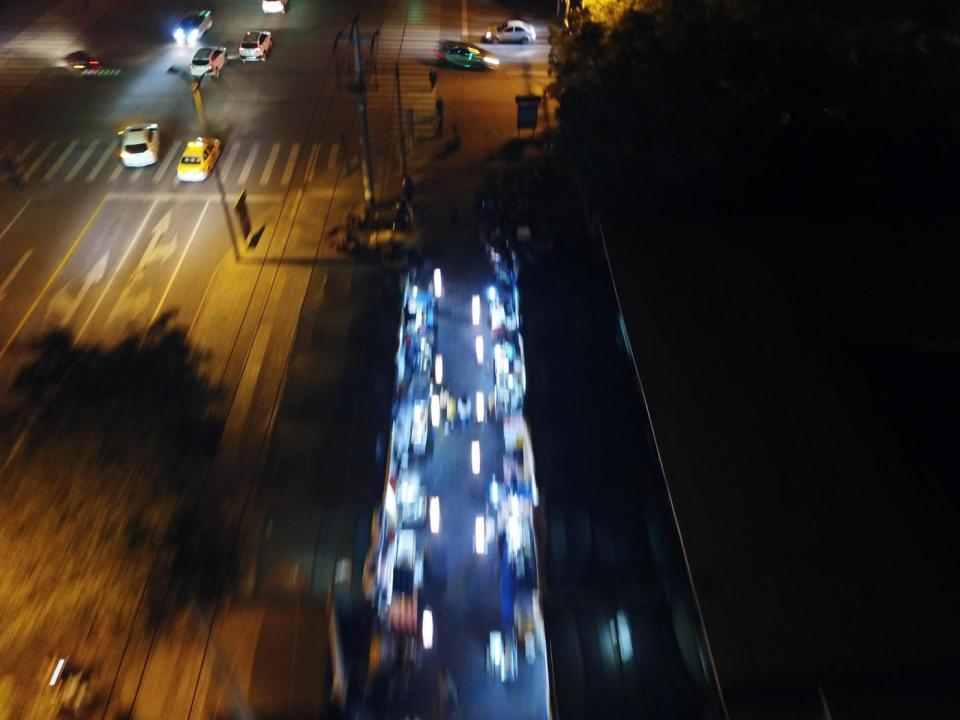car: (437, 41, 500, 74), (176, 136, 222, 181), (120, 123, 159, 169), (484, 18, 536, 46), (173, 9, 212, 44), (191, 46, 227, 77), (239, 31, 272, 64), (66, 51, 101, 74), (261, 0, 289, 14)
